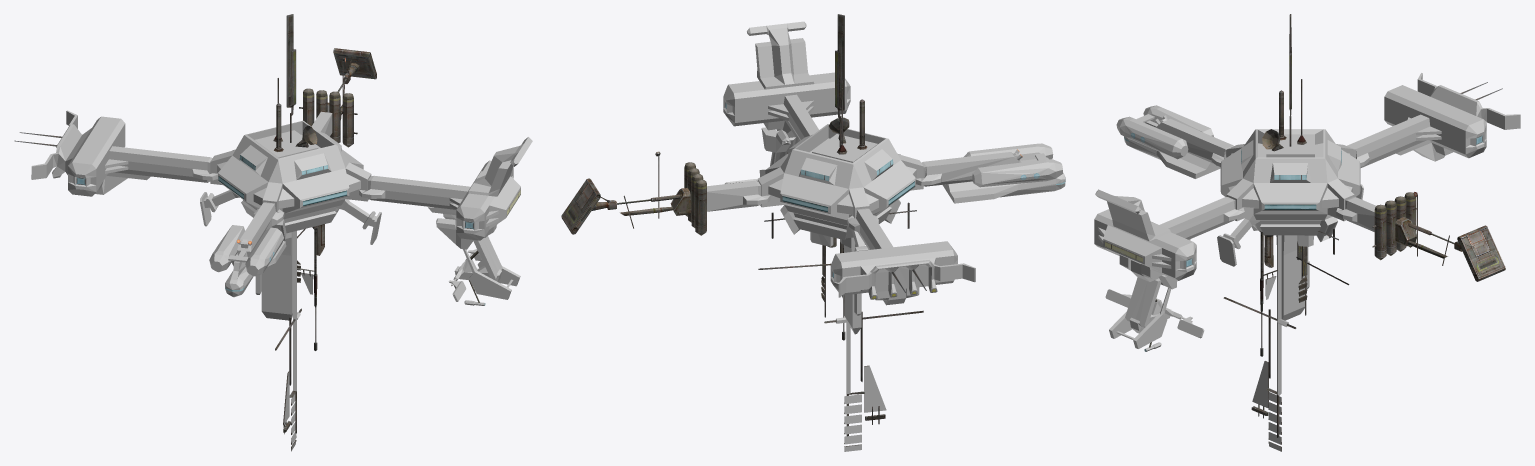
Rendered from spacestation_outpost_rebel_s01_l1.fbx.
The picture shows the model from 3 angles, left to right: view 1: azimuth 30°, elevation 25°; view 2: azimuth 150°, elevation 25°; view 3: azimuth 270°, elevation 25°; orthographic projection. The views are drawn at different scales.
Parts seen in each view (by area): view 1: mesh_node; view 2: mesh_node; view 3: mesh_node.
Part boxes in pixels (bbox=[...]): mesh_node: bbox=[14, 14, 532, 451]; mesh_node: bbox=[561, 14, 1065, 451]; mesh_node: bbox=[1094, 14, 1520, 451].
Bounding box in the file's own units: 309 × 337 × 299.
